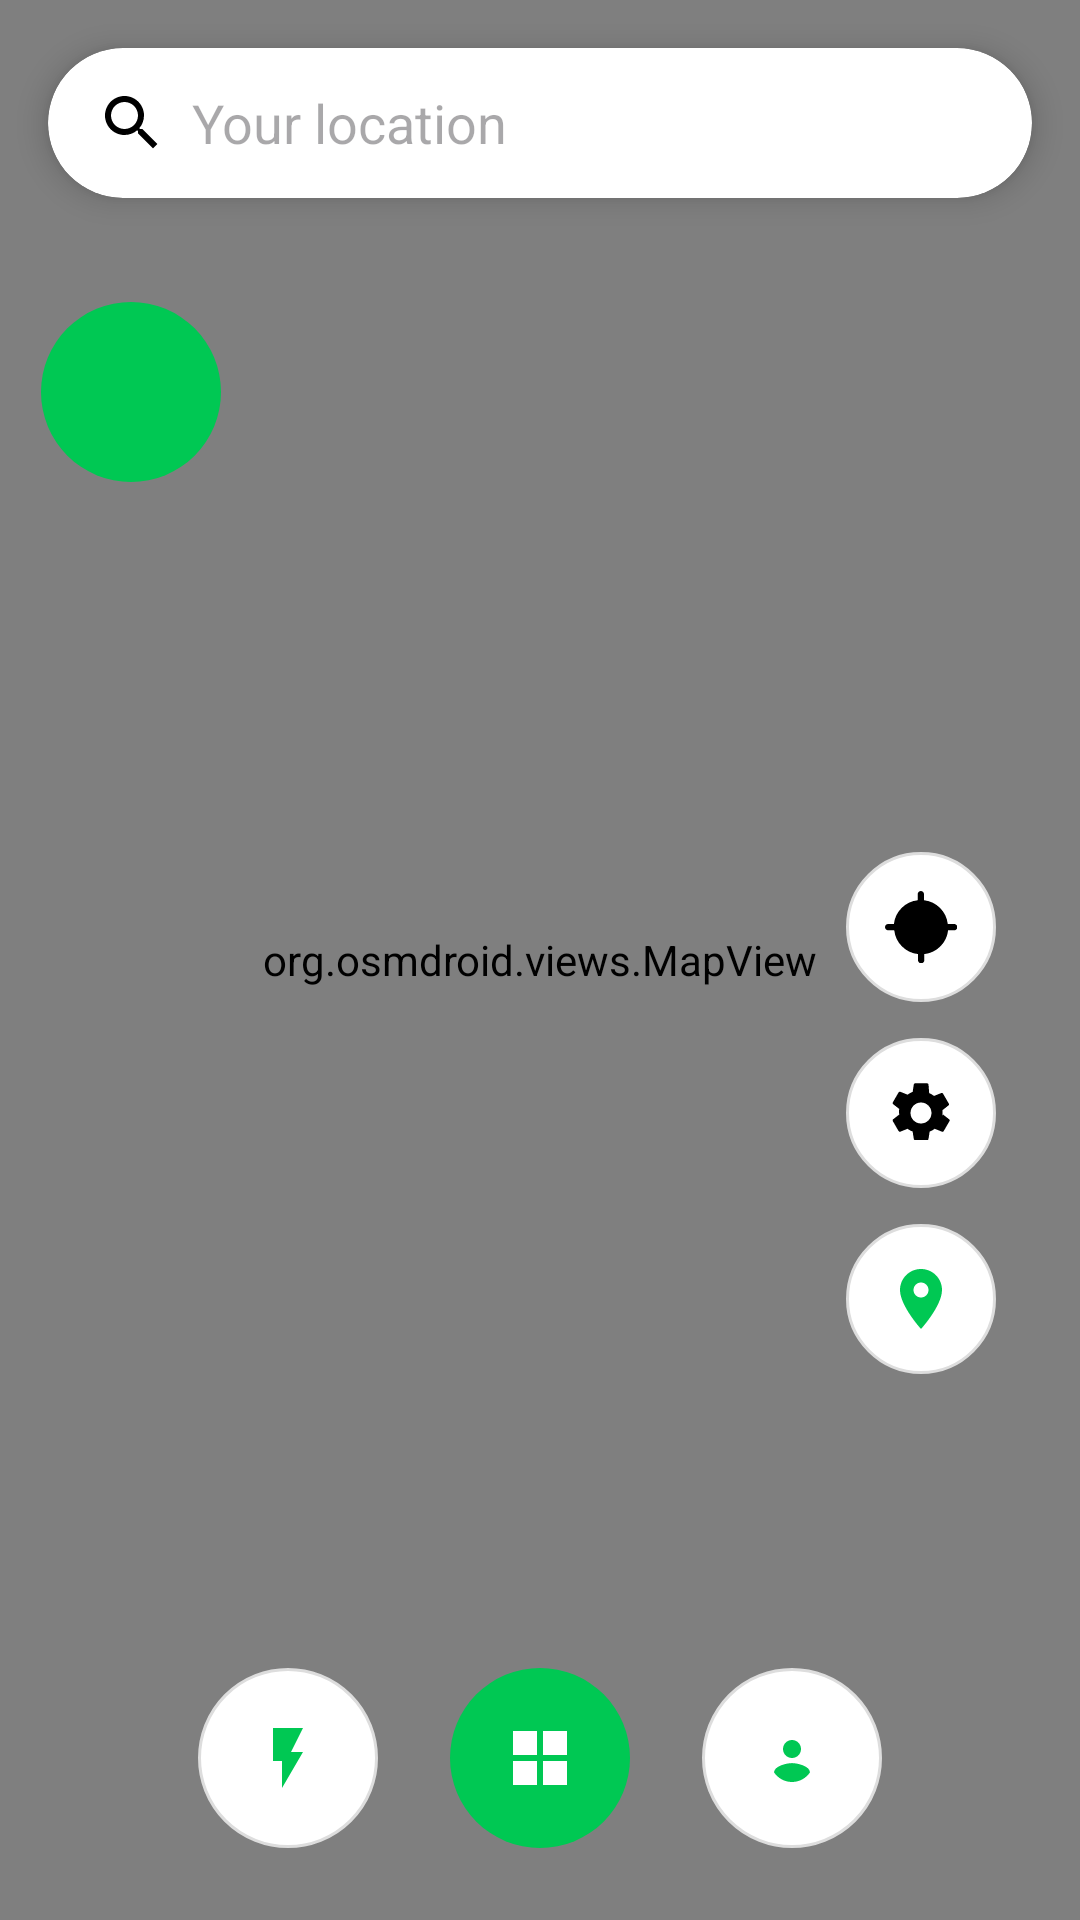

Point at icon controls on the screen. Image size 1080*1920, points as (x,y).
grid: (540,1758)
lightning: (288,1758)
location: (921,927)
man: (792,1758)
pin: (921,1299)
search: (131,122)
settings: (921,1113)
